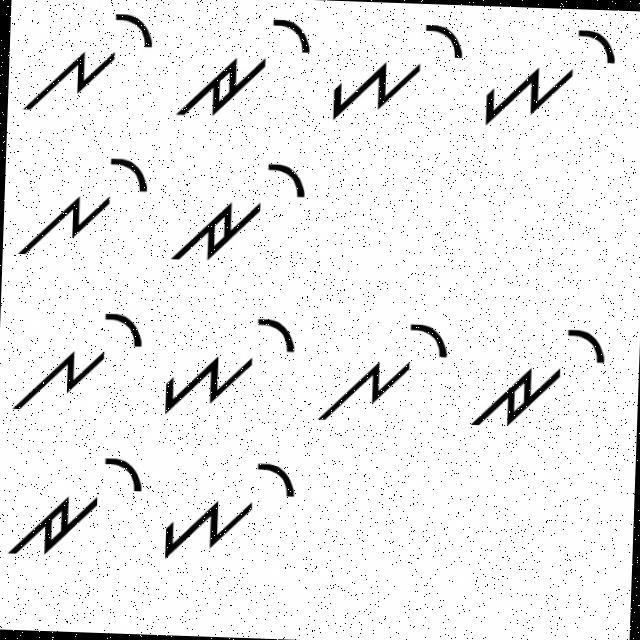lay: (14, 138, 156, 274), (7, 290, 150, 420), (310, 305, 452, 431), (20, 5, 156, 119)
ray: (5, 442, 152, 572), (464, 309, 610, 438), (170, 144, 312, 270), (175, 3, 317, 129)
yay: (475, 13, 625, 144), (159, 449, 308, 576), (158, 300, 300, 421), (328, 15, 466, 134)
